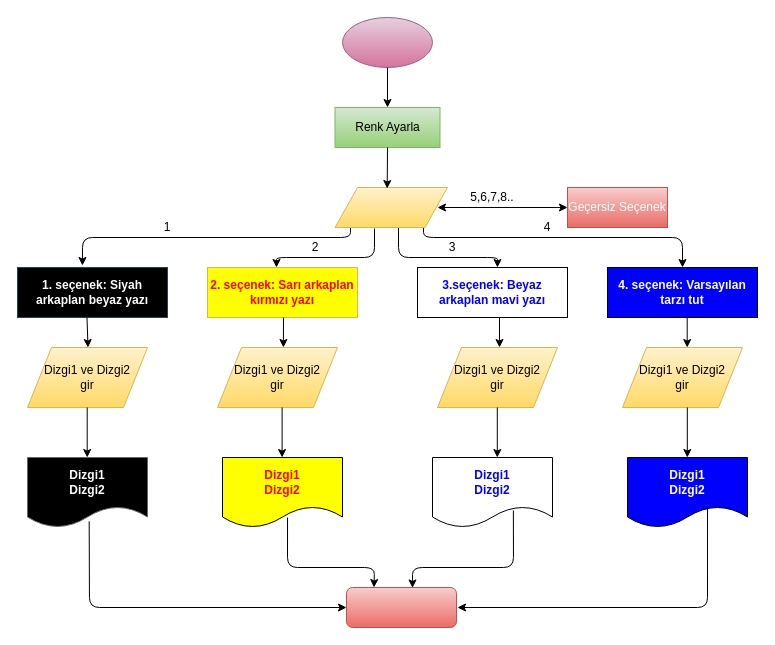
The diagram is 775 pixels wide and 645 high, and some of its shapes have lost their labels. Here are the shapes that lost their labels. From the top down, the centre of each, then its label:
the point at 387,42: Compile&Run
the point at 391,207: Seçenek Gir
the point at 401,607: Son
